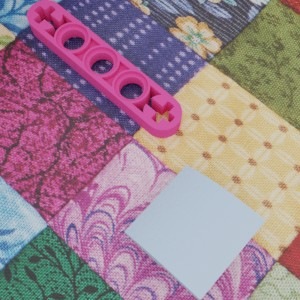lego: (26, 0, 182, 138), (124, 164, 265, 300)
